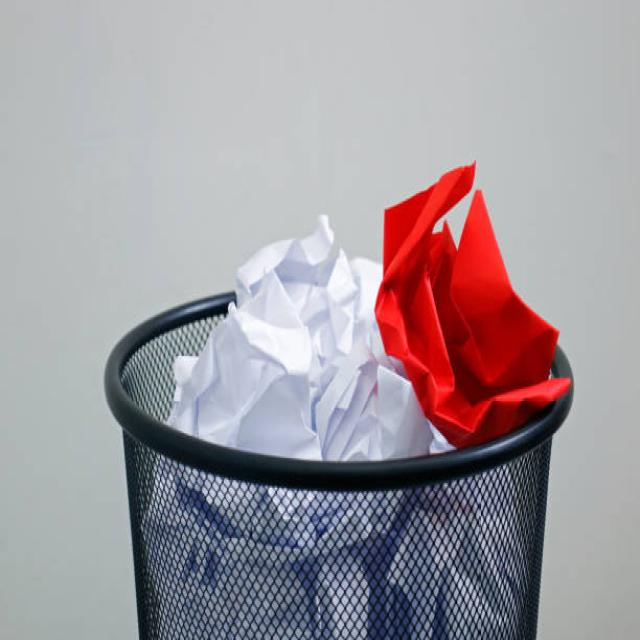electronic: (164, 160, 568, 463), (373, 158, 570, 450)
